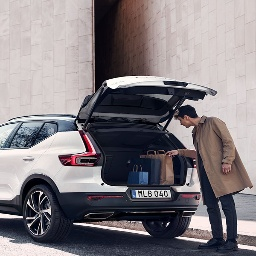sv_licence_plate: (130, 188, 171, 199)
